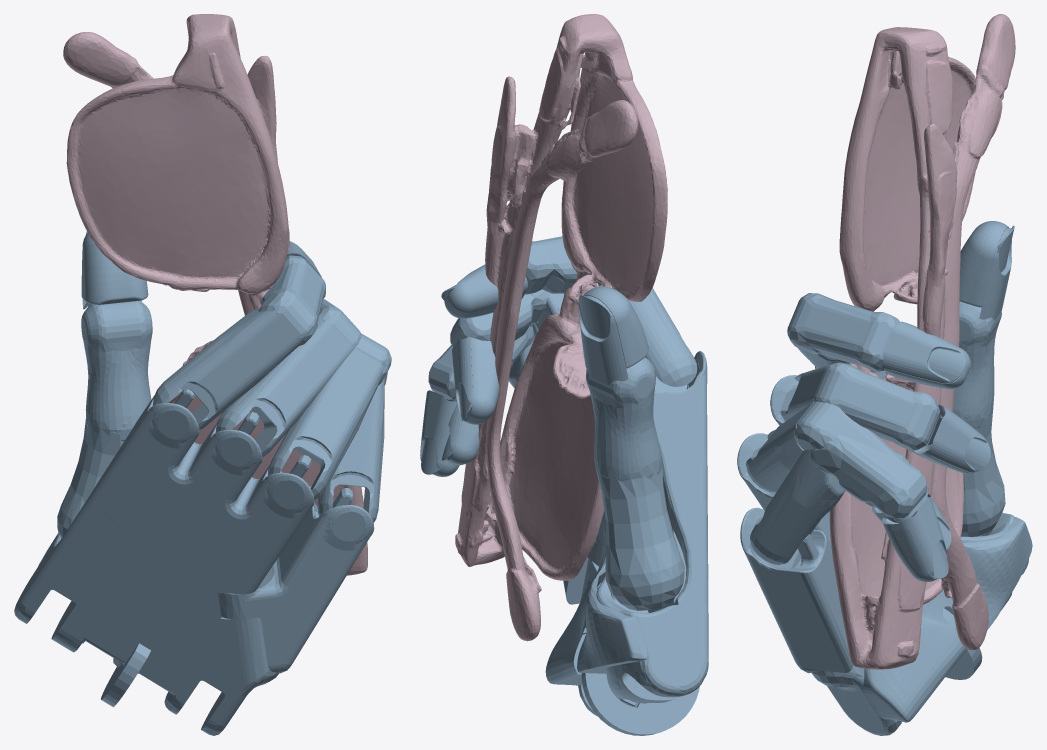
3 renders of one model, left to right at view 1: azimuth 30°, elevation 25°; view 2: azimuth 150°, elevation 25°; view 3: azimuth 270°, elevation 25°, orthographic.
Parts seen in each view (by area): view 1: world, obj_mesh_grasp_5.obj; view 2: world, obj_mesh_grasp_5.obj; view 3: world, obj_mesh_grasp_5.obj.
Boxes of the visible parts, x1,y1,x2,y2 form: world: (14,231,391,735); obj_mesh_grasp_5.obj: (63,14,367,575); world: (420,236,708,735); obj_mesh_grasp_5.obj: (455,14,667,641); world: (737,221,1032,735); obj_mesh_grasp_5.obj: (829,14,1015,669).
Bounding box in the file's own units: 0.1187 × 0.2523 × 0.0948.
